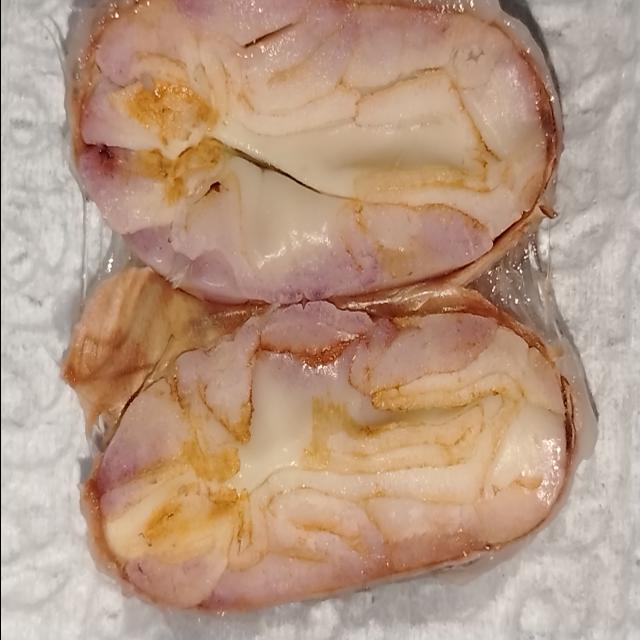Trinitario: (85, 311, 572, 617), (79, 0, 554, 306)
